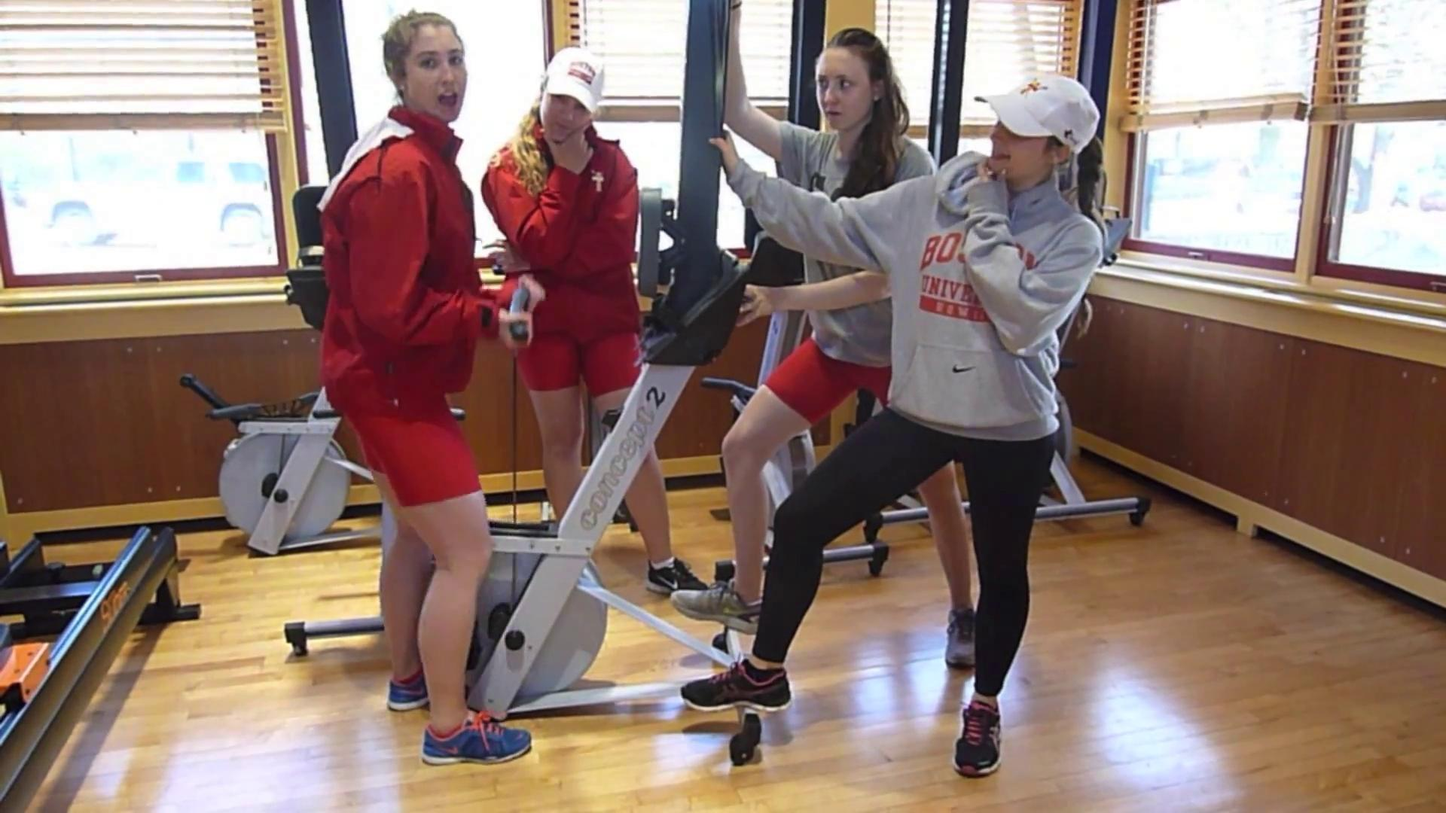victim: (715, 70, 1117, 780), (711, 3, 998, 685), (309, 10, 547, 766), (477, 36, 721, 614)
